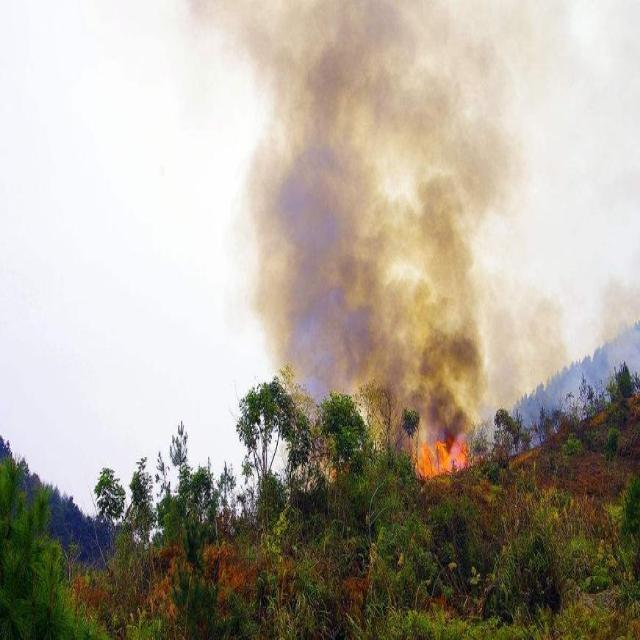Fire: (414, 426, 470, 482)
Smoke: (243, 0, 503, 380)
